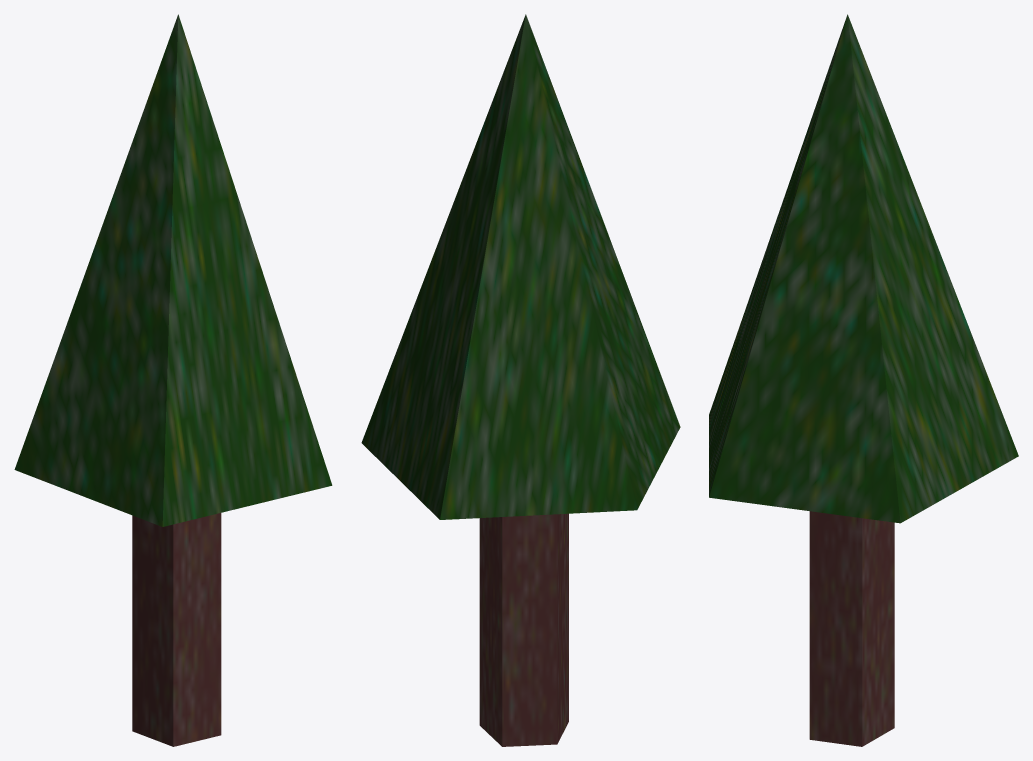
Rendered from tree.glb.
3 views of the same model, side by side, from view 1: azimuth 30°, elevation 25°; view 2: azimuth 150°, elevation 25°; view 3: azimuth 270°, elevation 25° (orthographic).
Parts seen in each view (by area): view 1: Cone, Cylinder-Col; view 2: Cone, Cylinder-Col; view 3: Cone, Cylinder-Col.
Part boxes in pixels (x1,y1,x2,y2): Cone: (14,14,332,526); Cylinder-Col: (132,513,221,746); Cone: (361,14,680,519); Cylinder-Col: (479,513,568,746); Cone: (709,14,1018,523); Cylinder-Col: (809,511,894,746).
Bounding box in the file's own units: 6.75 × 16.74 × 6.58.
Materials: 2 (2 with a texture image).
